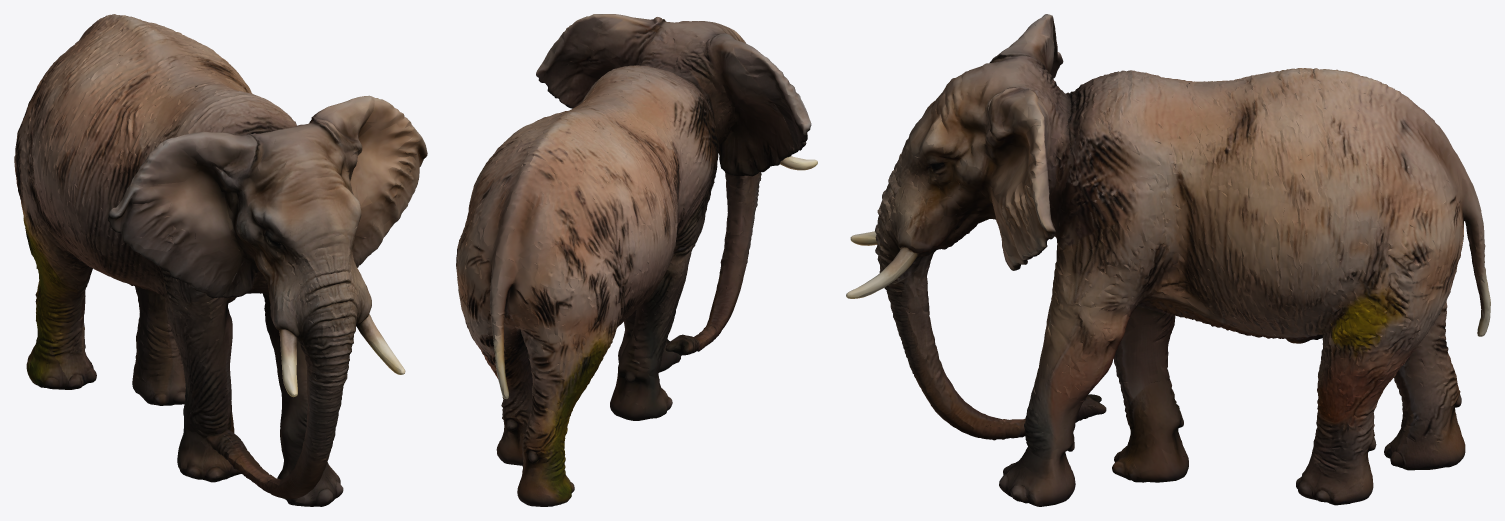
The model's file is elephant.glb.
The picture shows the model from 3 angles, left to right: view 1: azimuth 30°, elevation 25°; view 2: azimuth 150°, elevation 25°; view 3: azimuth 270°, elevation 25°; orthographic projection. The views are drawn at different scales.
Visible parts, largest first — view 1: output_unwrapped; view 2: output_unwrapped; view 3: output_unwrapped.
Part boxes in pixels (<box>): output_unwrapped: <box>14,14,427,506</box>; output_unwrapped: <box>456,14,817,506</box>; output_unwrapped: <box>846,14,1490,506</box>.
Size of the model in its own units: 1.13 by 1.35 by 1.9.
1 material, 1 textured.
